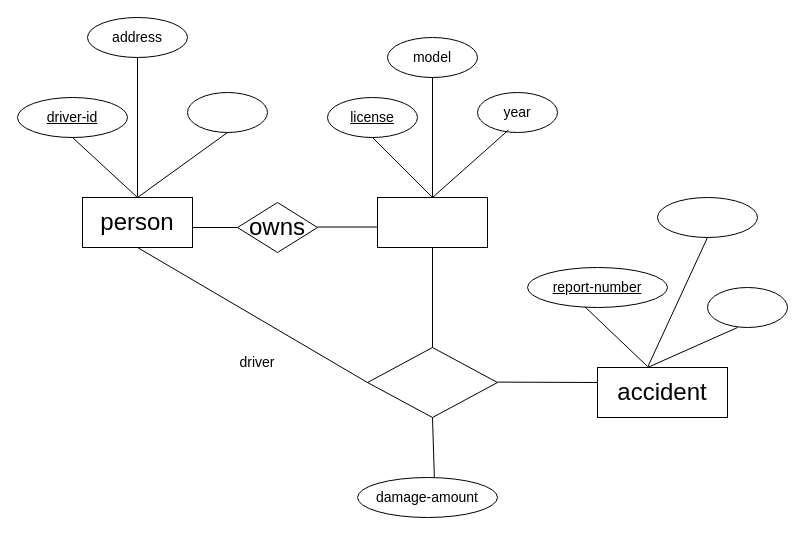
The diagram is 805 pixels wide and 535 high, and some of its shapes have lost their labels. Here are the shapes that lost their labels. From the top down, the centre of each, then its label:
point 227,112: name
point 432,222: car
point 707,217: location
point 747,307: date
point 432,382: participated
